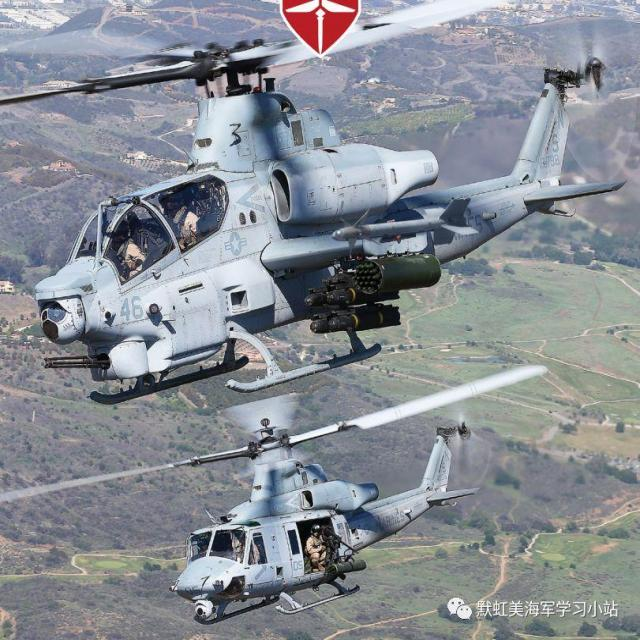MIL_HELO: (1, 0, 640, 393), (0, 380, 566, 631)
